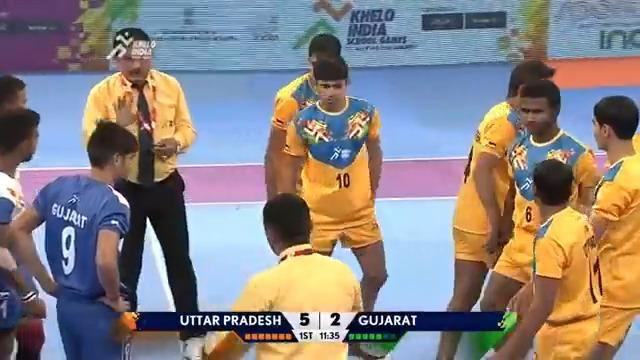Player: (435, 58, 556, 358), (8, 118, 139, 359), (280, 55, 388, 312), (206, 191, 363, 359), (481, 158, 601, 359), (585, 94, 639, 358), (263, 32, 344, 200), (0, 106, 51, 358)
referee: (80, 26, 207, 358)
